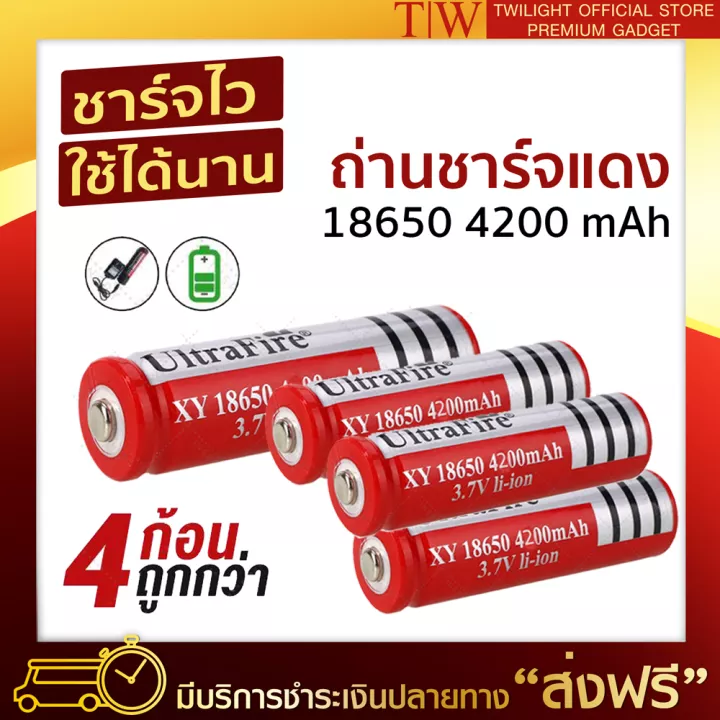Battery: (71, 298, 486, 484), (256, 332, 599, 490), (324, 384, 654, 539), (349, 465, 678, 616)
